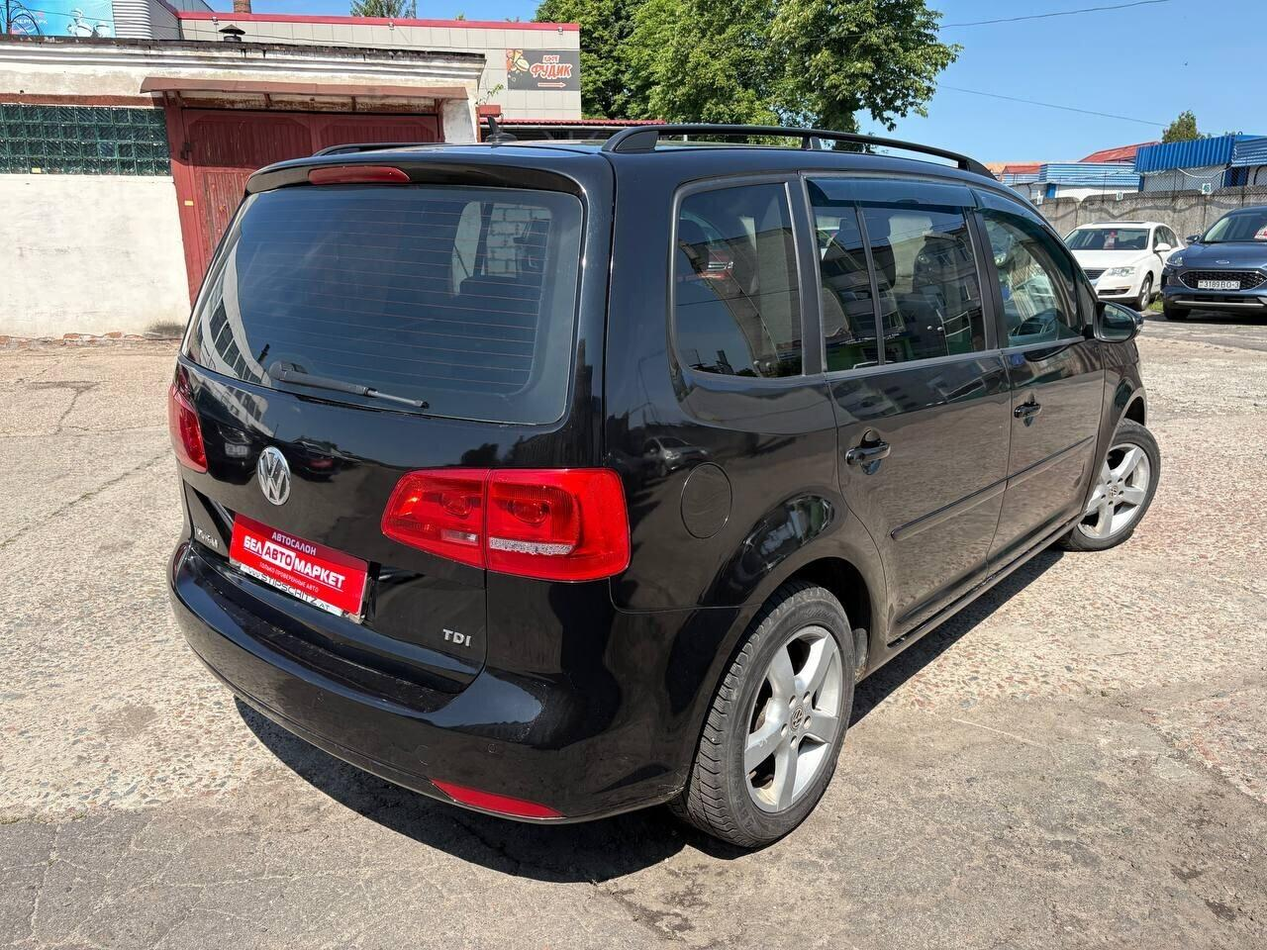Touran_2010-2015: (157, 121, 1172, 863)
